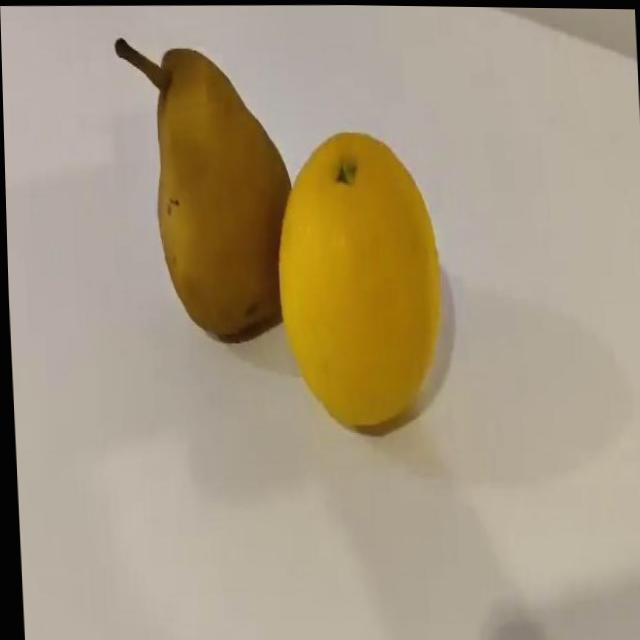Orange: (270, 126, 447, 435)
